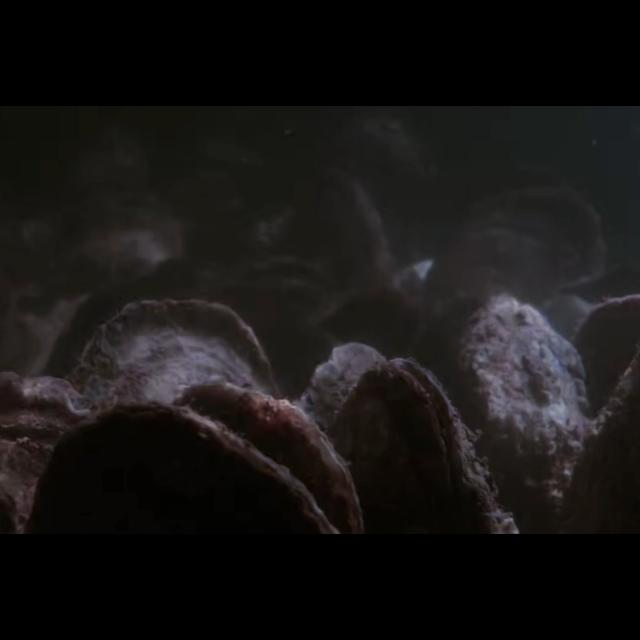Oyster-Closed: (26, 400, 338, 534), (170, 379, 366, 535), (0, 372, 100, 534)
Oyster-Indeterminate: (66, 300, 282, 534), (449, 294, 593, 534), (418, 188, 608, 334), (294, 343, 390, 534), (290, 164, 396, 296), (58, 192, 186, 292), (570, 294, 640, 442)
Oyster-Open: (326, 358, 516, 534), (213, 254, 339, 324)
